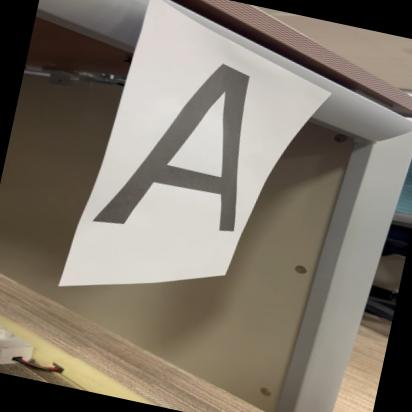seat: (69, 25, 286, 257)
